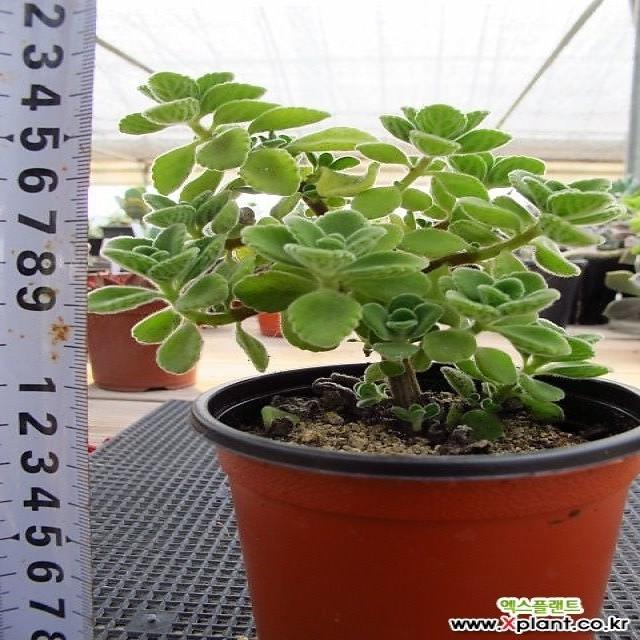Vicks: (233, 210, 430, 349), (457, 171, 618, 276), (357, 105, 510, 199), (88, 224, 200, 313), (120, 72, 265, 133), (440, 268, 560, 328), (143, 191, 232, 237)
